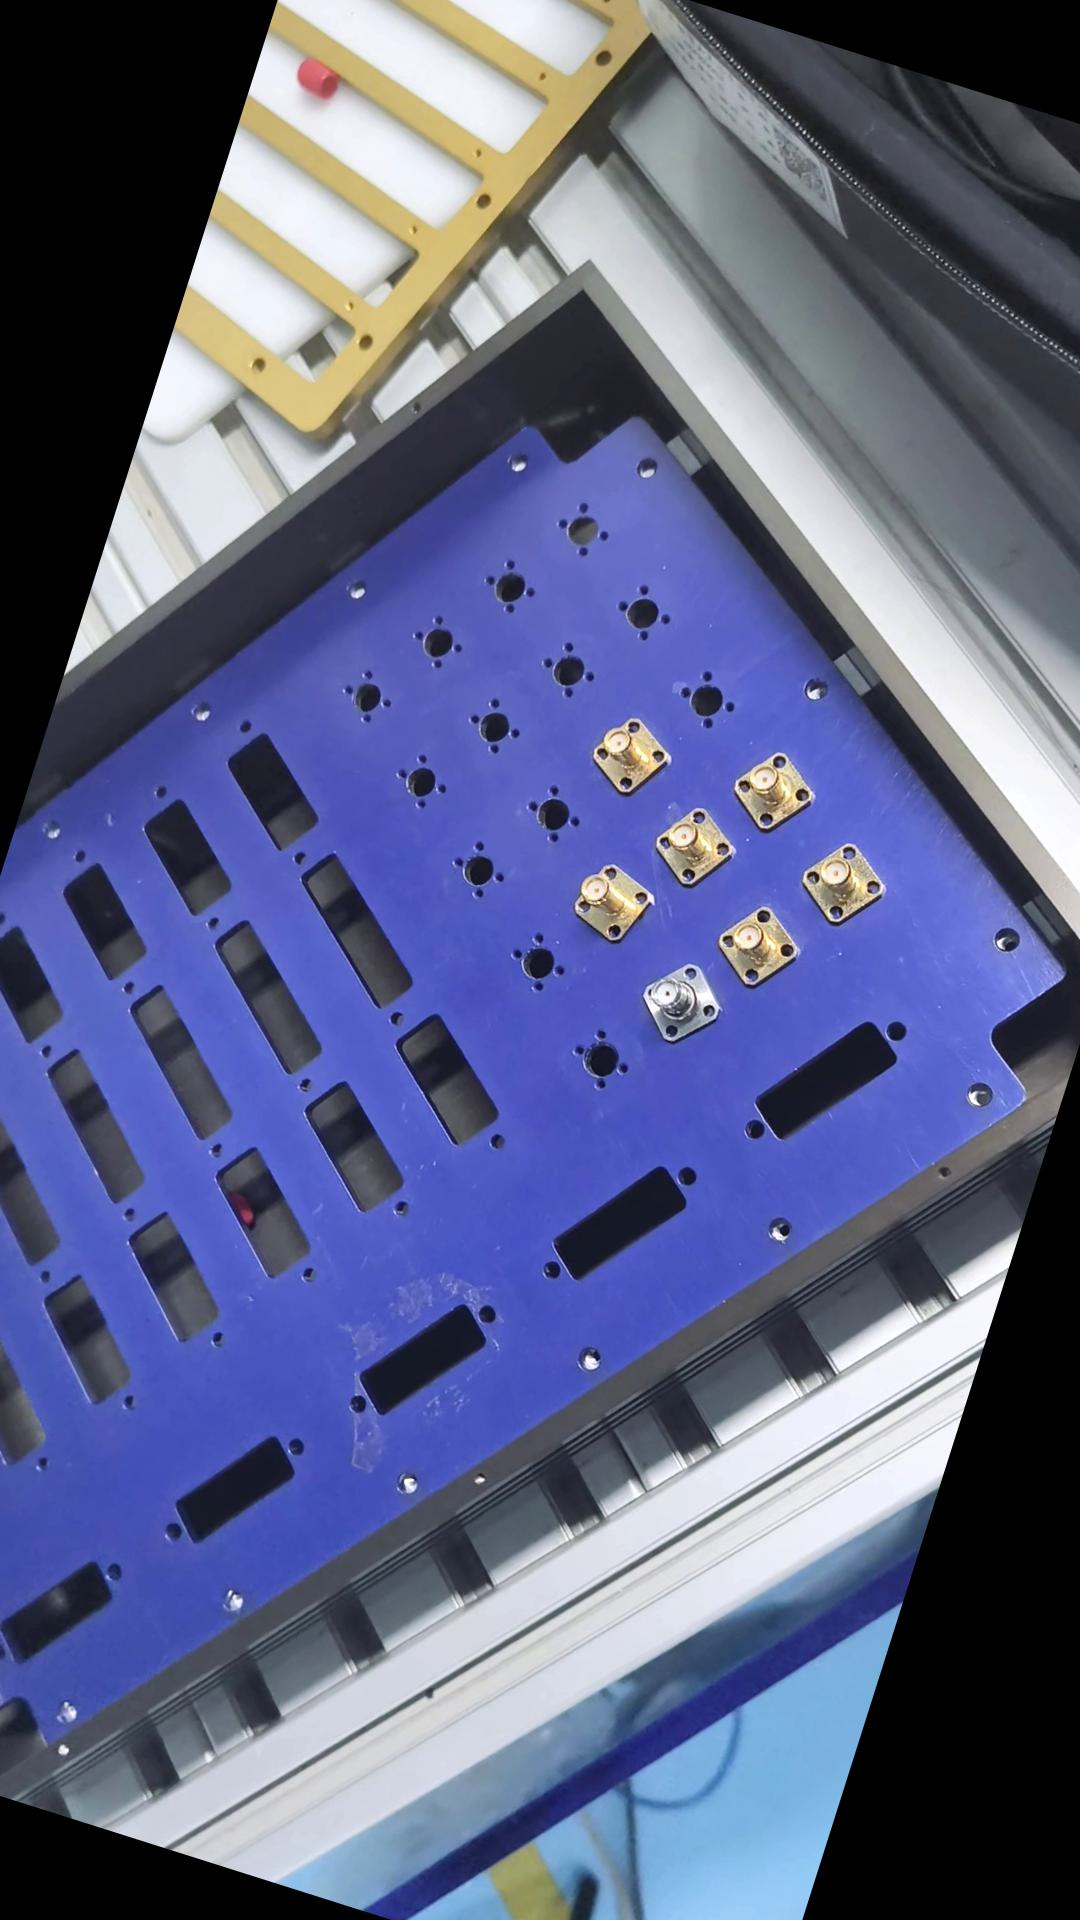SMA: (787, 825, 897, 938), (704, 889, 814, 996), (625, 944, 731, 1050), (719, 738, 823, 840), (574, 702, 675, 806), (642, 793, 741, 894), (560, 855, 655, 949)
